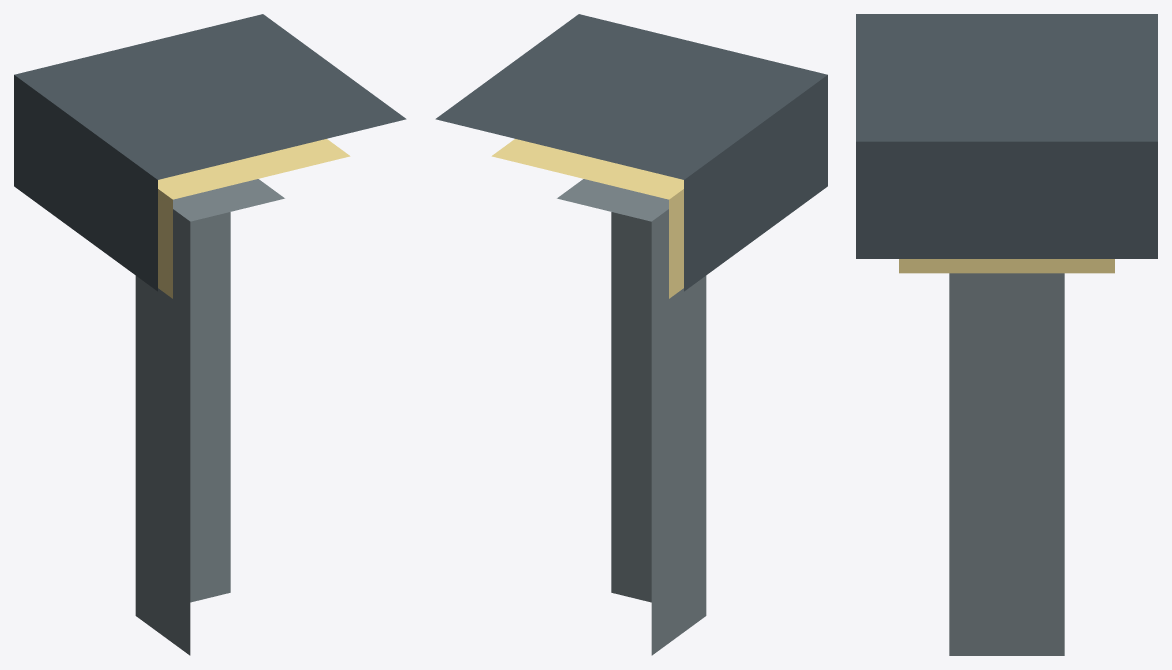
Rendered from lawn-light.glb.
The picture shows the model from 3 angles, left to right: view 1: azimuth 30°, elevation 25°; view 2: azimuth 150°, elevation 25°; view 3: azimuth 270°, elevation 25°; orthographic projection. The views are drawn at different scales.
Bounding box in the file's own units: 0.42 × 0.85 × 0.42.
